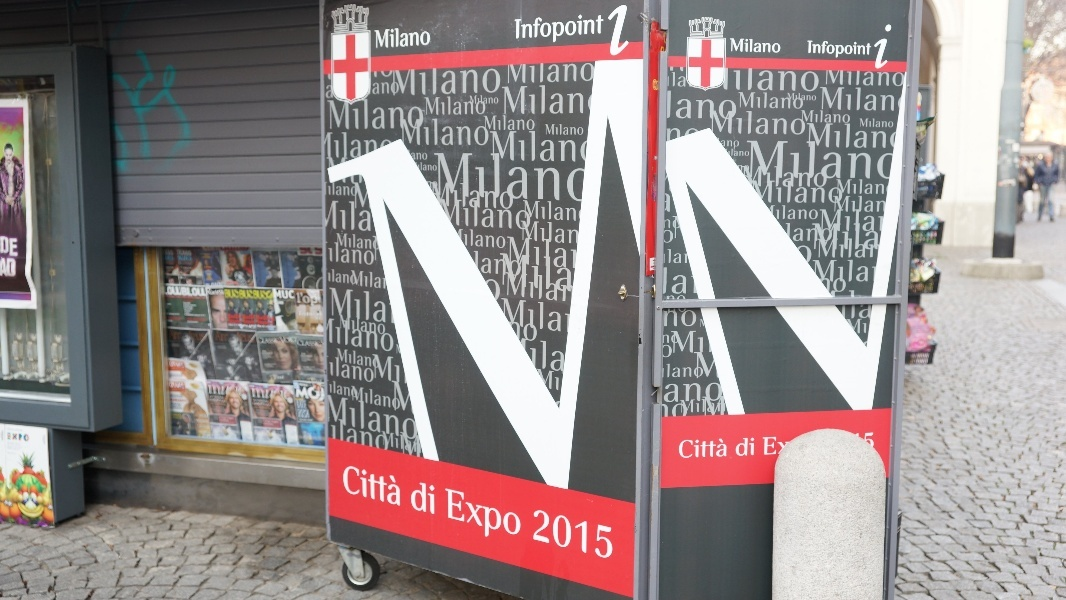text: (449, 488, 464, 546), (465, 488, 480, 546), (481, 488, 496, 546), (497, 488, 512, 546), (609, 1, 624, 58), (433, 152, 448, 205), (449, 152, 464, 205), (465, 152, 480, 205), (481, 152, 496, 205), (497, 152, 512, 205), (513, 152, 528, 205), (529, 152, 544, 205), (545, 152, 560, 205), (561, 152, 576, 205), (577, 152, 592, 205), (545, 509, 560, 562), (561, 509, 576, 562), (577, 509, 592, 562), (593, 509, 608, 562), (881, 23, 896, 72), (353, 463, 368, 509), (369, 463, 384, 509), (385, 463, 400, 509), (337, 395, 352, 441), (353, 395, 368, 441), (369, 395, 384, 441), (385, 395, 400, 441), (401, 395, 416, 441), (513, 251, 528, 293), (529, 251, 544, 293), (545, 251, 560, 293), (561, 251, 576, 293), (753, 140, 768, 182), (769, 140, 784, 182), (785, 140, 800, 182), (801, 140, 816, 182), (817, 140, 832, 182), (833, 140, 848, 182), (849, 140, 864, 182), (865, 140, 880, 182), (881, 140, 896, 182), (625, 1, 635, 58), (337, 286, 352, 324), (353, 286, 368, 324), (369, 286, 384, 324), (513, 296, 528, 334), (529, 296, 544, 334), (545, 296, 560, 334), (561, 271, 577, 306), (499, 251, 512, 293), (417, 481, 432, 517), (513, 235, 528, 271), (529, 235, 544, 271), (545, 235, 560, 271), (561, 235, 576, 271), (529, 339, 544, 375), (545, 339, 560, 375), (534, 509, 544, 562), (337, 198, 352, 233), (353, 198, 368, 233), (337, 318, 352, 353), (353, 318, 368, 353), (369, 318, 384, 353), (513, 271, 528, 306), (529, 271, 544, 306), (545, 271, 560, 306), (513, 488, 522, 546), (401, 63, 416, 97), (417, 63, 432, 97), (433, 63, 448, 97), (449, 63, 464, 97), (465, 63, 480, 97), (481, 63, 496, 97), (337, 98, 352, 132), (353, 98, 368, 132), (369, 98, 384, 132), (385, 98, 400, 132), (401, 98, 416, 132), (497, 129, 512, 163), (513, 129, 528, 163), (529, 129, 544, 163), (545, 129, 560, 163), (561, 129, 576, 163), (577, 129, 592, 163), (385, 353, 401, 384), (529, 13, 544, 46), (545, 13, 560, 46), (561, 13, 576, 46), (577, 13, 592, 46), (337, 419, 352, 452), (353, 419, 368, 452), (369, 419, 384, 452), (337, 129, 352, 161), (353, 129, 368, 161), (369, 129, 384, 161), (449, 198, 464, 230), (465, 198, 480, 230), (481, 198, 496, 230), (497, 198, 512, 230), (513, 198, 528, 230), (481, 247, 496, 279), (497, 247, 512, 279), (849, 289, 864, 321), (513, 85, 528, 116), (529, 85, 544, 116), (545, 85, 560, 116), (561, 85, 576, 116), (577, 85, 592, 116), (673, 266, 689, 295), (323, 198, 336, 233), (401, 117, 416, 147), (417, 117, 432, 147), (433, 117, 448, 147), (449, 117, 464, 147), (465, 117, 480, 147), (433, 180, 448, 210), (449, 180, 464, 210), (465, 180, 480, 210), (481, 180, 496, 210), (497, 180, 512, 210), (673, 90, 688, 120), (689, 90, 704, 120), (705, 90, 720, 120), (721, 90, 736, 120), (337, 156, 352, 185), (737, 64, 752, 93), (753, 64, 768, 93), (769, 64, 784, 93), (785, 64, 800, 93), (801, 64, 816, 93), (817, 222, 832, 251), (833, 222, 848, 251), (849, 222, 864, 251), (865, 222, 880, 251), (705, 351, 720, 380), (515, 13, 528, 46), (401, 431, 416, 459), (501, 296, 512, 334), (323, 129, 336, 161), (385, 385, 401, 411), (545, 367, 561, 393), (689, 328, 705, 354), (343, 463, 352, 509), (327, 395, 336, 441), (337, 357, 352, 384), (353, 357, 368, 384), (833, 85, 848, 112), (849, 85, 864, 112), (865, 85, 880, 112), (881, 85, 896, 112), (753, 177, 768, 204), (769, 177, 784, 204), (785, 177, 800, 204), (801, 177, 816, 204), (817, 177, 832, 204), (833, 207, 848, 234), (849, 207, 864, 234), (865, 207, 880, 234), (593, 13, 605, 46), (529, 220, 544, 246), (545, 220, 560, 246), (561, 220, 576, 246), (353, 385, 368, 411), (369, 385, 384, 411), (721, 110, 736, 136), (737, 110, 752, 136), (753, 110, 768, 136), (769, 110, 784, 136), (785, 110, 800, 136), (817, 123, 832, 149), (833, 123, 848, 149), (849, 123, 864, 149), (865, 123, 880, 149), (881, 123, 896, 149), (673, 328, 688, 354), (353, 156, 366, 185), (337, 241, 352, 266), (353, 241, 368, 266), (385, 430, 400, 455), (401, 430, 416, 455), (753, 164, 768, 189), (769, 164, 784, 189), (785, 164, 800, 189), (801, 164, 816, 189), (817, 259, 832, 284), (833, 259, 848, 284), (849, 259, 864, 284), (372, 353, 384, 384), (385, 26, 400, 50), (401, 26, 416, 50), (417, 26, 432, 50), (513, 61, 528, 85), (529, 61, 544, 85), (545, 61, 560, 85), (561, 61, 576, 85), (577, 61, 592, 85), (513, 320, 528, 344), (385, 129, 396, 161), (513, 247, 524, 279), (817, 221, 833, 243), (819, 207, 832, 234), (326, 318, 336, 353), (385, 318, 395, 353), (692, 351, 704, 380), (1, 236, 16, 259), (529, 199, 544, 222), (545, 199, 560, 222), (561, 199, 576, 222), (465, 227, 480, 250), (481, 227, 496, 250), (705, 394, 720, 417), (673, 381, 688, 404), (689, 381, 704, 404), (705, 381, 720, 404), (561, 296, 570, 334), (501, 85, 512, 116), (417, 98, 427, 132), (356, 182, 368, 210), (865, 238, 881, 259), (433, 95, 448, 117), (449, 95, 464, 117), (465, 95, 480, 117), (689, 437, 704, 459), (705, 437, 720, 459), (353, 314, 368, 336), (369, 314, 384, 336), (337, 347, 352, 369), (353, 347, 368, 369), (785, 221, 800, 243), (801, 221, 816, 243), (820, 85, 832, 112), (833, 177, 845, 204), (1, 257, 16, 278), (353, 269, 368, 290), (369, 269, 384, 290), (817, 238, 832, 259), (833, 238, 848, 259), (849, 238, 864, 259), (327, 98, 336, 132), (328, 286, 336, 324), (481, 117, 491, 147), (337, 232, 352, 252), (353, 232, 368, 252), (737, 437, 752, 457), (484, 278, 496, 303), (833, 68, 848, 88), (849, 68, 864, 88), (865, 68, 880, 88), (881, 68, 896, 88), (817, 164, 829, 189), (833, 194, 848, 214), (849, 194, 864, 214), (865, 194, 880, 214), (673, 309, 688, 329), (326, 156, 336, 185), (439, 198, 448, 230), (339, 314, 352, 336), (817, 40, 832, 59), (833, 40, 848, 59), (849, 40, 864, 59), (753, 91, 768, 110), (769, 91, 784, 110), (785, 91, 800, 110), (849, 316, 864, 335), (504, 271, 512, 306), (392, 63, 400, 97), (689, 362, 705, 379), (497, 114, 512, 132), (513, 114, 528, 132), (337, 381, 352, 399), (673, 126, 688, 144), (385, 286, 392, 324), (738, 91, 752, 110), (609, 509, 614, 562), (373, 26, 384, 50), (663, 266, 672, 295), (806, 123, 816, 149), (472, 247, 480, 279), (865, 289, 873, 321), (337, 181, 352, 198), (337, 269, 352, 286), (801, 108, 816, 125), (817, 108, 832, 125), (833, 108, 848, 125), (849, 178, 864, 195), (865, 178, 880, 195), (769, 204, 784, 221), (785, 204, 800, 221), (801, 204, 816, 221), (673, 362, 688, 379), (497, 227, 508, 250), (482, 114, 496, 132), (746, 140, 752, 182), (742, 164, 752, 189), (865, 259, 875, 284), (369, 347, 380, 369), (369, 232, 381, 252), (737, 38, 752, 54), (753, 38, 768, 54), (865, 432, 880, 448), (529, 320, 539, 344), (801, 244, 813, 264), (689, 398, 704, 414), (705, 398, 720, 414), (673, 249, 688, 265), (489, 129, 496, 163), (673, 71, 687, 88), (535, 367, 544, 393), (711, 110, 720, 136), (444, 488, 448, 546), (454, 227, 464, 250), (305, 386, 320, 401), (385, 81, 400, 96), (327, 241, 336, 266), (673, 403, 688, 418), (818, 278, 832, 294), (833, 278, 847, 294), (835, 178, 848, 195), (410, 481, 416, 517), (328, 357, 336, 384), (689, 126, 701, 144), (545, 123, 560, 137), (561, 123, 576, 137), (520, 220, 528, 246), (423, 95, 432, 117), (679, 437, 688, 459), (305, 292, 319, 306), (369, 182, 376, 210), (209, 384, 224, 397), (225, 384, 240, 397), (257, 388, 272, 401), (273, 388, 288, 401), (193, 302, 206, 317), (769, 38, 781, 54), (325, 181, 336, 198), (664, 381, 672, 404), (372, 81, 384, 96), (769, 436, 778, 456), (561, 339, 566, 375), (865, 117, 880, 129), (663, 309, 672, 329), (689, 309, 698, 329), (721, 437, 729, 459), (369, 241, 376, 266), (807, 40, 816, 59), (497, 63, 502, 97), (664, 192, 672, 213), (241, 332, 256, 343), (257, 289, 272, 300), (325, 84, 336, 99), (481, 93, 496, 104), (331, 419, 336, 452), (897, 85, 903, 112), (721, 394, 728, 417), (193, 331, 209, 341), (897, 68, 905, 88), (801, 91, 817, 101), (881, 117, 894, 129), (327, 269, 336, 286), (663, 362, 672, 379), (865, 40, 873, 59), (225, 289, 240, 299), (417, 162, 432, 172), (497, 278, 503, 303), (667, 90, 672, 120), (721, 138, 736, 148), (662, 403, 672, 418), (506, 61, 512, 85), (328, 381, 336, 399), (508, 235, 512, 271), (679, 398, 688, 414), (663, 344, 672, 360), (17, 432, 30, 443), (193, 287, 207, 297), (417, 431, 422, 459), (881, 178, 889, 195), (305, 338, 320, 347), (295, 386, 304, 401), (183, 302, 192, 317), (369, 357, 374, 384), (481, 95, 487, 117), (417, 149, 429, 160), (385, 419, 389, 452), (275, 290, 288, 300), (787, 91, 800, 101), (801, 110, 806, 136), (529, 114, 536, 132), (841, 302, 848, 320), (663, 230, 672, 244), (417, 430, 422, 455), (469, 93, 480, 104), (164, 286, 176, 296), (209, 288, 224, 296), (241, 289, 253, 299), (225, 247, 240, 255), (428, 180, 432, 210), (762, 436, 768, 456), (507, 320, 512, 344), (826, 68, 832, 88), (881, 194, 887, 214), (663, 332, 672, 345), (817, 64, 821, 93), (812, 222, 816, 251), (721, 381, 726, 404), (258, 337, 272, 345), (577, 123, 585, 137), (785, 441, 793, 455), (673, 294, 687, 302), (6, 432, 16, 443), (181, 287, 192, 297), (373, 69, 384, 79), (433, 481, 436, 517), (666, 126, 672, 144), (369, 198, 372, 233), (737, 149, 750, 157), (353, 181, 359, 198), (812, 259, 816, 284), (177, 360, 186, 371), (407, 149, 416, 160), (297, 292, 304, 306), (216, 331, 224, 343), (177, 250, 193, 256), (529, 198, 532, 230), (730, 38, 736, 54), (721, 398, 727, 414), (524, 199, 528, 222), (577, 199, 581, 222), (417, 395, 419, 441), (673, 332, 680, 345), (273, 375, 288, 381), (305, 311, 320, 317), (177, 255, 192, 261), (385, 69, 394, 79), (353, 381, 358, 399), (168, 360, 176, 371), (177, 381, 185, 392), (664, 218, 672, 229), (673, 218, 681, 229), (733, 64, 736, 93), (778, 441, 784, 455), (881, 207, 884, 234), (796, 244, 800, 264), (667, 249, 672, 265), (241, 384, 247, 397), (227, 313, 240, 319), (577, 220, 580, 246), (169, 381, 176, 392), (177, 330, 184, 341), (165, 249, 176, 256), (165, 255, 176, 262), (801, 91, 805, 110), (209, 398, 224, 403), (321, 386, 326, 401), (257, 316, 272, 321), (381, 430, 384, 455), (273, 337, 282, 345), (296, 400, 304, 409), (241, 247, 250, 255), (327, 73, 336, 81), (593, 61, 596, 85), (727, 149, 736, 157), (225, 416, 235, 423), (210, 395, 224, 400), (297, 409, 304, 419), (242, 314, 256, 319), (289, 290, 296, 300), (353, 269, 357, 286), (170, 330, 176, 341), (195, 419, 208, 424), (251, 388, 256, 401), (243, 319, 256, 324), (297, 338, 304, 347), (593, 85, 595, 116), (225, 331, 230, 343), (257, 399, 269, 404), (305, 409, 311, 419), (257, 321, 272, 325), (513, 180, 515, 210), (753, 437, 756, 457), (737, 90, 739, 120), (859, 117, 864, 129), (845, 316, 848, 335), (865, 316, 868, 335), (665, 294, 672, 302), (235, 332, 240, 343), (279, 337, 288, 343), (263, 420, 272, 426), (433, 181, 439, 190), (750, 177, 752, 204), (257, 403, 270, 407), (193, 318, 206, 322), (211, 282, 224, 286), (350, 385, 352, 411), (897, 123, 899, 149), (849, 108, 852, 125), (765, 204, 768, 221), (817, 204, 820, 221), (198, 414, 208, 419), (177, 286, 182, 296), (433, 162, 438, 172), (177, 413, 184, 420), (289, 337, 297, 343), (17, 236, 19, 259), (401, 463, 402, 509), (702, 394, 704, 417), (427, 181, 432, 190), (305, 365, 316, 369), (197, 425, 208, 429), (385, 314, 387, 336), (170, 403, 176, 410), (177, 403, 183, 410), (385, 269, 387, 290), (188, 331, 192, 341), (264, 363, 272, 368), (305, 358, 313, 363), (177, 399, 187, 403), (166, 319, 176, 323), (700, 318, 704, 328), (273, 420, 279, 426), (228, 320, 240, 323), (183, 266, 192, 270), (577, 235, 578, 271), (169, 373, 176, 378), (177, 373, 184, 378), (171, 413, 176, 420), (219, 416, 224, 423), (253, 289, 256, 300), (165, 266, 176, 269), (497, 93, 500, 104), (168, 317, 176, 321), (220, 247, 224, 255), (847, 289, 848, 321), (689, 249, 691, 265), (262, 352, 272, 355), (170, 393, 176, 398), (177, 393, 183, 398), (198, 431, 208, 434), (166, 303, 176, 306), (166, 313, 176, 316), (299, 311, 304, 317), (399, 117, 400, 147), (717, 138, 720, 148), (737, 138, 740, 148), (881, 222, 882, 251), (721, 351, 722, 380), (297, 383, 304, 387), (305, 400, 308, 409), (183, 299, 192, 302), (289, 388, 291, 401), (671, 328, 672, 354), (273, 363, 278, 368), (305, 355, 313, 358), (170, 399, 176, 403), (186, 320, 192, 324), (193, 320, 199, 324), (351, 269, 352, 290), (187, 318, 192, 322), (315, 317, 320, 321), (321, 338, 323, 347), (252, 403, 256, 407), (305, 383, 309, 387), (177, 317, 181, 321), (206, 288, 208, 296), (673, 344, 674, 360), (301, 358, 304, 363), (253, 399, 256, 404), (673, 230, 674, 244), (207, 384, 208, 397), (300, 355, 304, 358), (177, 313, 181, 316), (321, 311, 323, 317), (273, 289, 274, 300), (225, 398, 227, 403), (273, 316, 275, 321), (239, 289, 240, 299), (415, 162, 416, 172), (705, 318, 706, 328), (302, 365, 304, 369), (273, 321, 275, 325), (321, 317, 323, 321), (301, 353, 304, 355), (209, 431, 211, 434), (305, 353, 307, 355), (209, 425, 210, 429), (193, 299, 194, 302), (241, 320, 242, 323)
